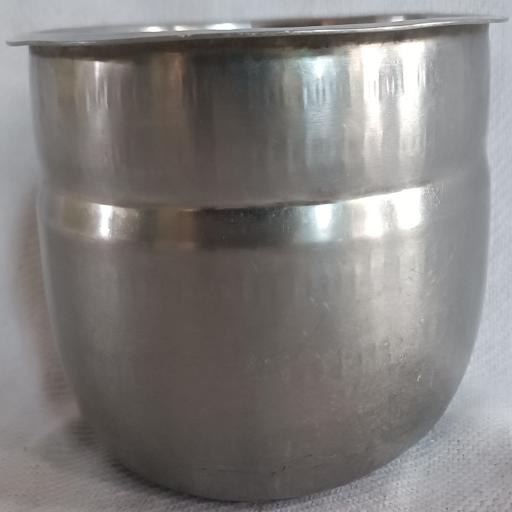vessel: (10, 15, 494, 500)
